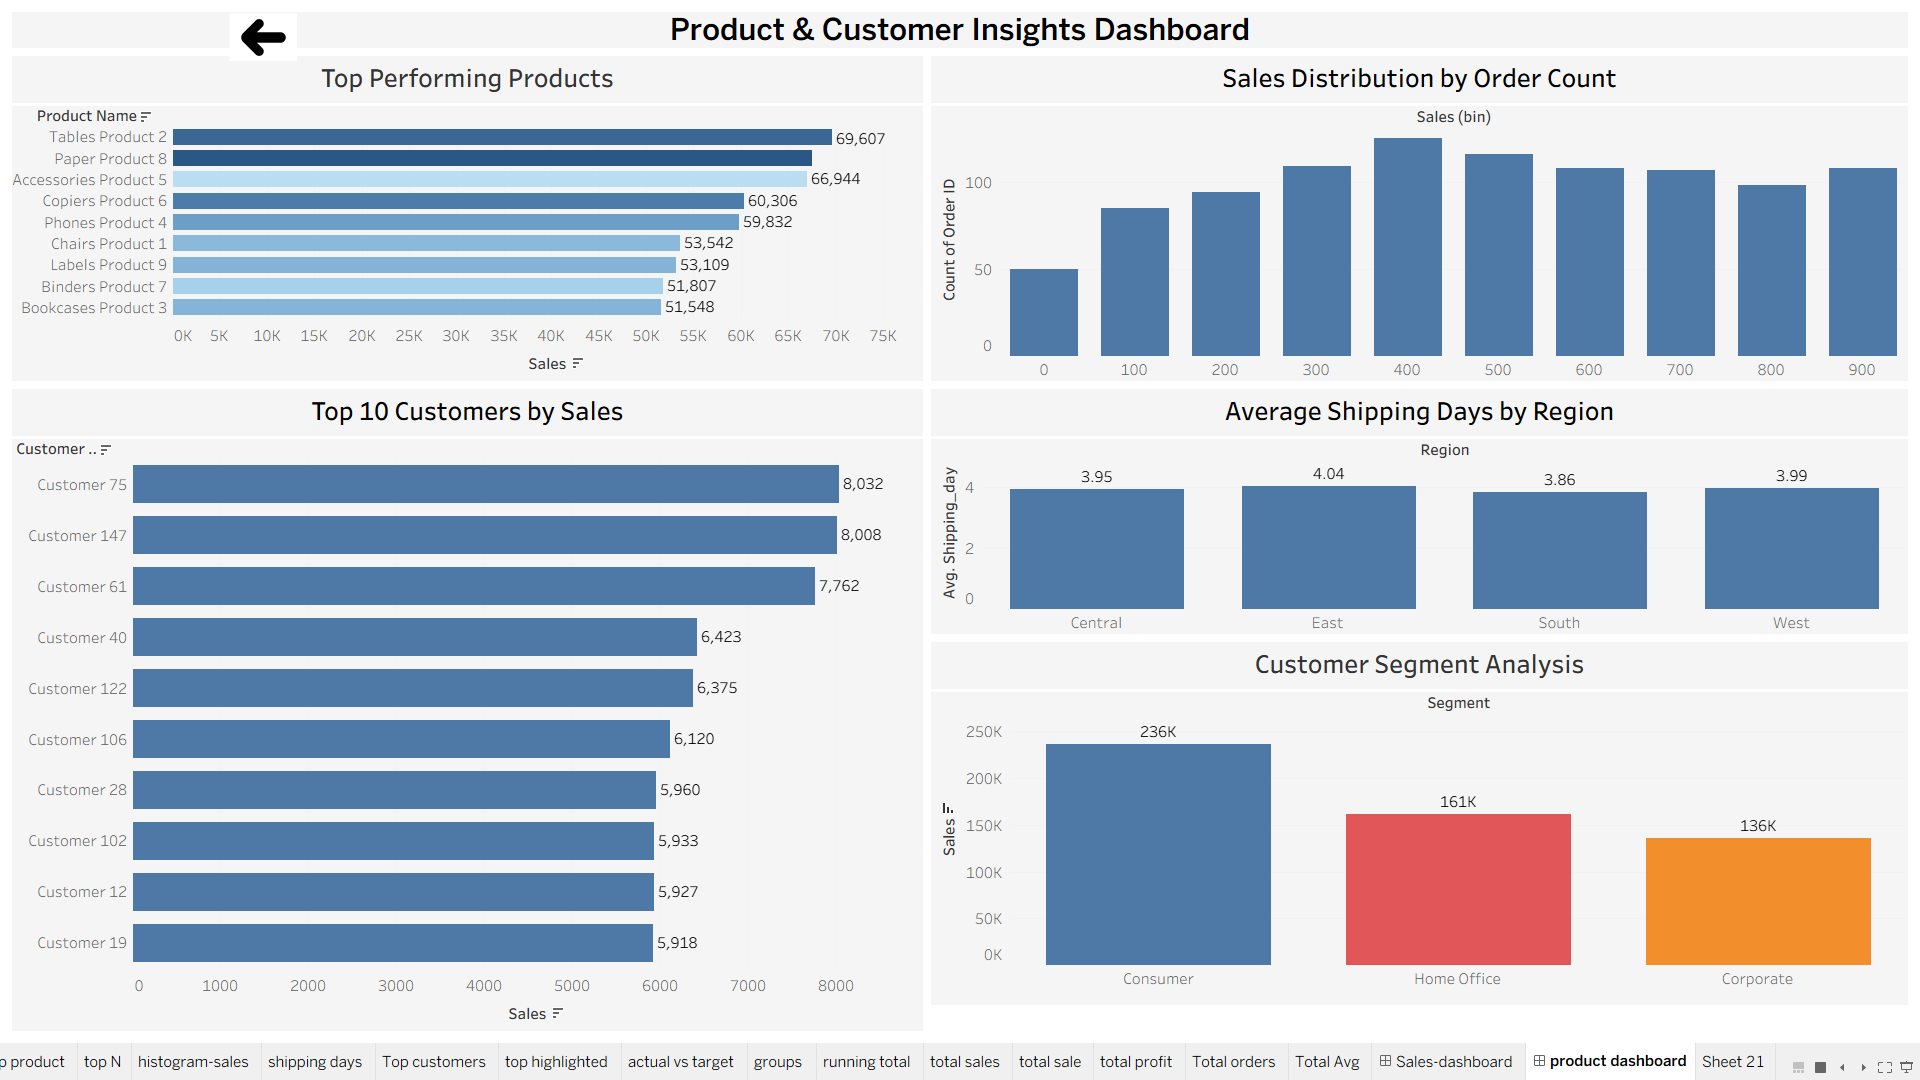

What the dashboard file says about the page in this screenshot:
{"tool":"tableau","page":{"name":"product dashboard","canvas":[1000,1000],"units":"permille","ordinal":1},"visuals":[{"type":"text","box":[4.8,9.4,990.3,51.7]},{"type":"dashboard-object","box":[87.5,12.9,99,45.8]},{"type":"worksheet","title":"top product","mark":"Automatic","rows":["Product_Name"],"cols":["Sales"],"box":[4.8,61.1,478.3,391.3]},{"type":"worksheet","title":"histogram-sales","mark":"Automatic","rows":["Order_ID"],"cols":["Sales (bin)"],"box":[483.1,61.1,512,391.3]},{"type":"worksheet","title":"Top customers","mark":"Automatic","rows":["Customer_Name"],"cols":["Sales"],"box":[4.8,452.4,478.2,538.2]},{"type":"worksheet","title":"shipping days","mark":"Bar","rows":["Calculation_0931836834889729"],"cols":["Region"],"box":[483.1,452.4,512.1,297.3]},{"type":"worksheet","title":"segment","mark":"Automatic","rows":["Sales"],"cols":["Segment"],"box":[483.1,749.7,512.1,240.9]}]}

Visuals, with their boxes on the dashboard's canvas, which has no fixed pixel size, in thousandths of its width and height (x1, y1, x2, y2). These are canvas units, not pixel positions in the 1920x1080 screenshot, which may show the page scaled, cropped or inside an application window:
text: pyautogui.locateOnScreen(5, 9, 995, 61)
dashboard-object: pyautogui.locateOnScreen(88, 13, 186, 59)
"top product" worksheet: pyautogui.locateOnScreen(5, 61, 483, 452)
"histogram-sales" worksheet: pyautogui.locateOnScreen(483, 61, 995, 452)
"Top customers" worksheet: pyautogui.locateOnScreen(5, 452, 483, 991)
"shipping days" worksheet (Bar marks): pyautogui.locateOnScreen(483, 452, 995, 750)
"segment" worksheet: pyautogui.locateOnScreen(483, 750, 995, 991)
